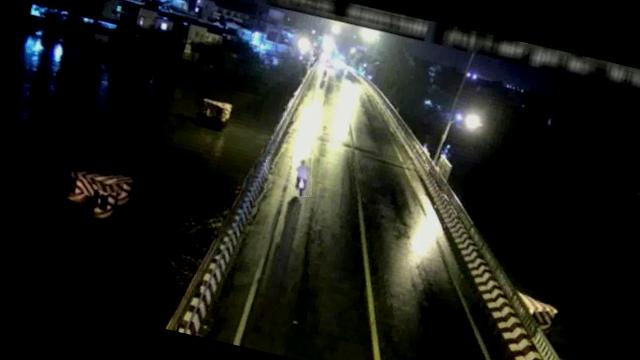Bike: (286, 155, 318, 199)
